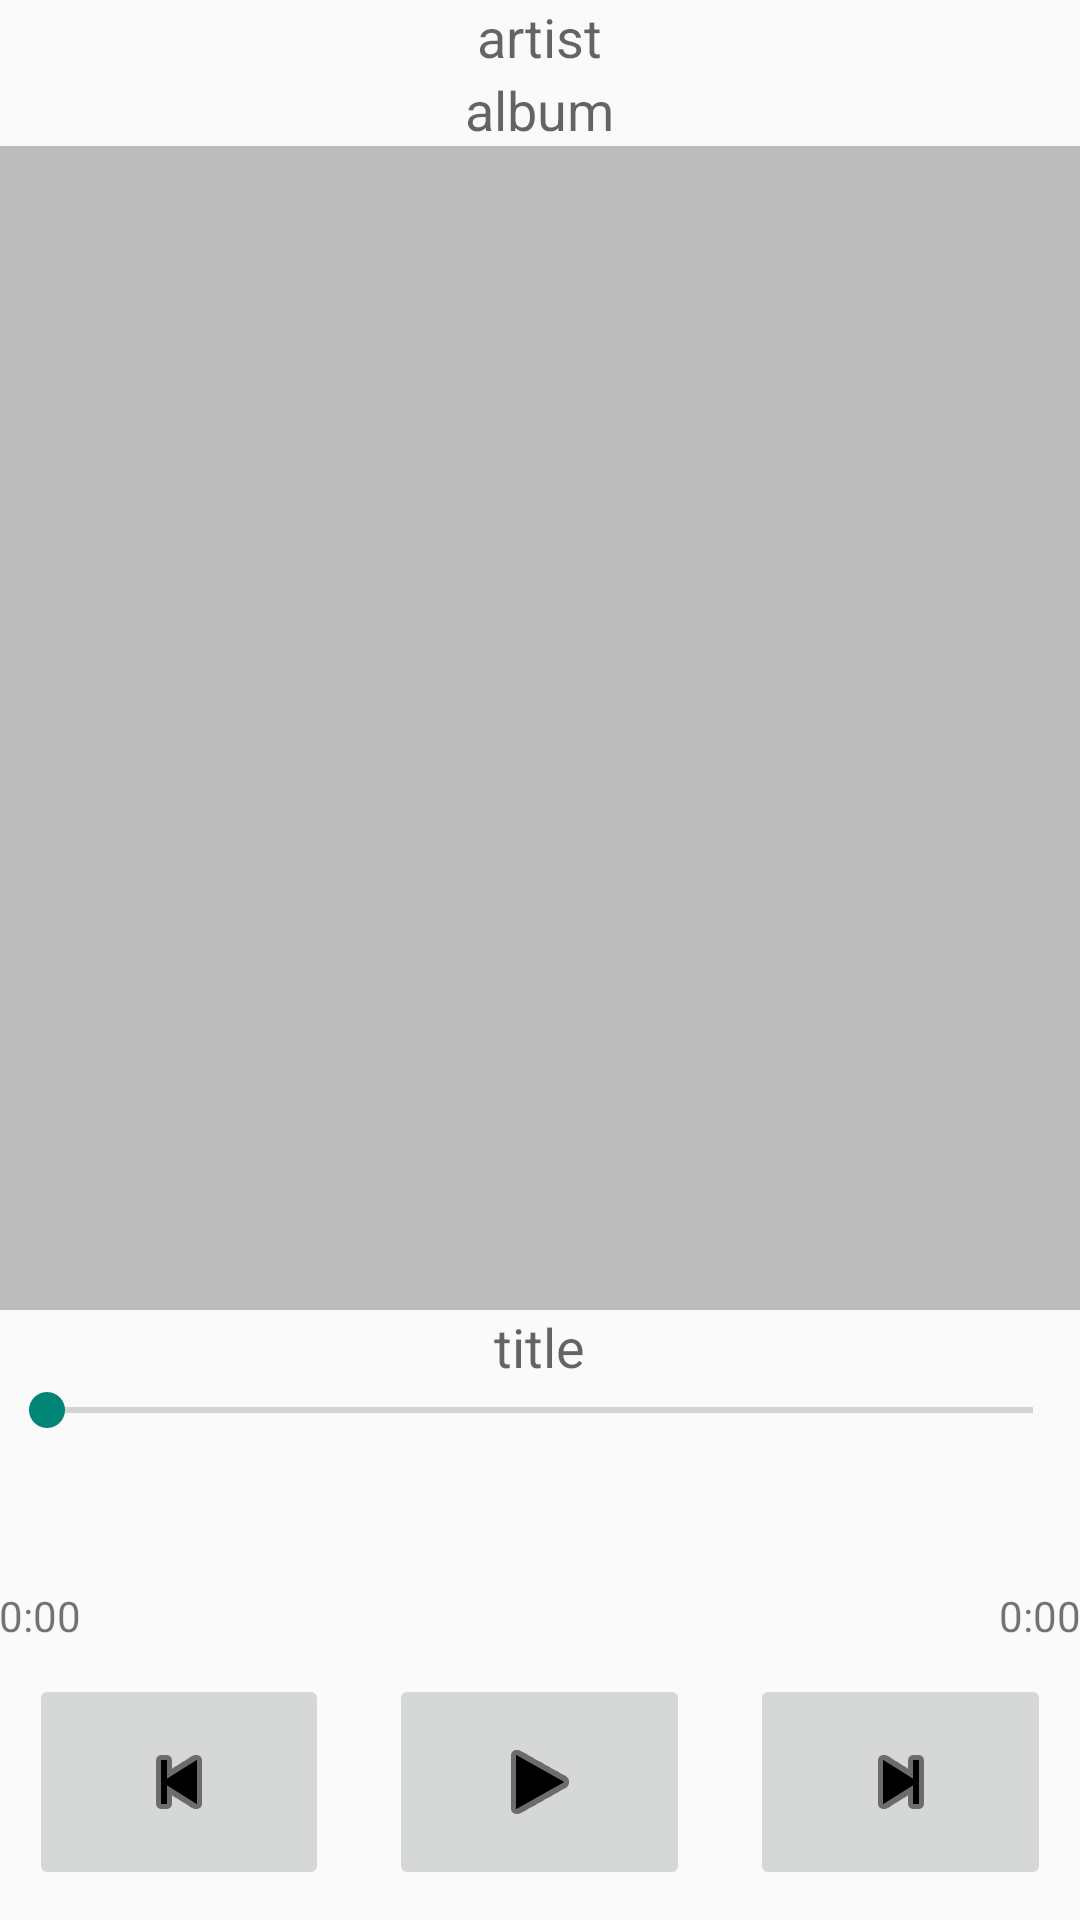

Icons on this 1080 × 1920 Android screen, each with the point to tap as (x,y):
next: (900,1782)
play: (539,1782)
previous: (179,1782)
